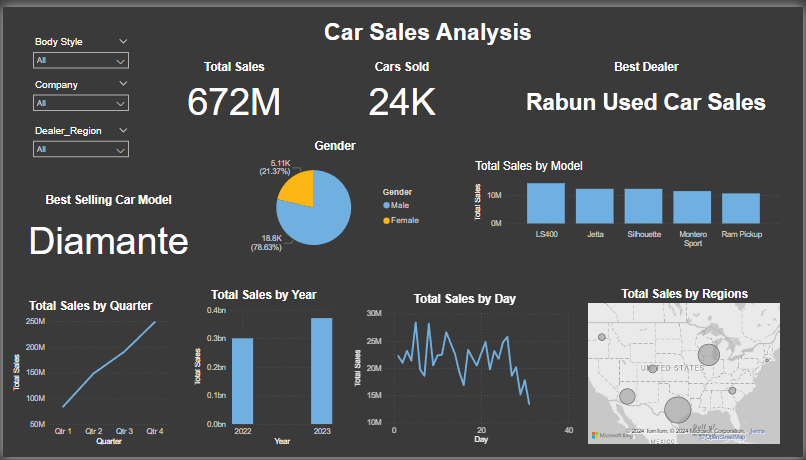

The dashboard page shown, as its layout file describes it:
{"tool":"powerbi","page":{"name":"Car Sales","canvas":[1280,720],"ordinal":0},"visuals":[{"type":"textbox","box":[496.7,13.7,367.8,57.6],"z":0},{"type":"card","title":"Total Sales","fields":{"Values":["Car Sales.Total Sales"]},"box":[268,86,204,100],"z":1000},{"type":"card","title":"Cars Sold","fields":{"Values":["Car Sales.Cars Sold"]},"box":[558.5,85.1,160.5,101.5],"z":2000},{"type":"card","title":"Best Selling Car Model","fields":{"Values":["Car Sales.Best Selling Model"]},"box":[26.1,297.8,285.4,122.1],"z":3000},{"type":"card","title":"Best Dealer","fields":{"Values":["Car Sales.Top Dealer"]},"box":[778,86,502,108],"z":4000},{"type":"lineChart","fields":{"Y":["Car Sales.Total Sales"],"Category":["Car Sales.Date.Variation.Date Hierarchy.Quarter"]},"box":[11.4,467.1,255.7,238.6],"z":5000},{"type":"columnChart","fields":{"Category":["Car Sales.Date.Variation.Date Hierarchy.Year","Car Sales.Date.Variation.Date Hierarchy.Quarter","Car Sales.Date.Variation.Date Hierarchy.Month","Car Sales.Date.Variation.Date Hierarchy.Day"],"Y":["Car Sales.Total Sales"]},"box":[302,450,230,256],"z":6000},{"type":"slicer","fields":{"Values":["Car Sales.Body Style"]},"box":[37,42.5,172.9,71.4],"z":7000},{"type":"slicer","fields":{"Values":["Car Sales.Dealer_Region"]},"box":[37.6,183.3,172.9,63.1],"z":8000},{"type":"slicer","fields":{"Values":["Car Sales.Company"]},"box":[37.6,110.6,172.9,72.7],"z":9000},{"type":"pieChart","title":"Gender","fields":{"Category":["Car Sales.Gender"],"Y":["CountNonNull(Car Sales.Customer Name)"]},"box":[382.8,212.7,297.8,197.6],"z":10000},{"type":"map","title":"Total Sales by Regions","fields":{"Category":["Car Sales.Dealer_Region"],"Size":["Car Sales.Total Sales"]},"box":[931.7,448.7,317,256.6],"z":11000},{"type":"lineChart","fields":{"Category":["Car Sales.Date.Variation.Date Hierarchy.Day"],"Y":["Car Sales.Total Sales"]},"box":[558,456,362,248],"z":12000},{"type":"columnChart","fields":{"Category":["Car Sales.Model"],"Y":["Car Sales.Total Sales"]},"box":[750.6,244.3,499.5,149.6],"z":13000}]}

Visuals, with their boxes in screenshot pixels (x1, y1, x2, y2), scaled from the page's 1280x720 canvas onto the 806x460 screenshot:
textbox: {"left": 313, "top": 9, "right": 544, "bottom": 46}
"Total Sales" card: {"left": 169, "top": 55, "right": 297, "bottom": 119}
"Cars Sold" card: {"left": 352, "top": 54, "right": 453, "bottom": 119}
"Best Selling Car Model" card: {"left": 16, "top": 190, "right": 196, "bottom": 268}
"Best Dealer" card: {"left": 490, "top": 55, "right": 805, "bottom": 124}
lineChart - Car Sales.Total Sales x Car Sales.Date.Variation.Date Hierarchy.Quarter: {"left": 7, "top": 298, "right": 168, "bottom": 451}
columnChart - Car Sales.Date.Variation.Date Hierarchy.Year x Car Sales.Date.Variation.Date Hierarchy.Quarter: {"left": 190, "top": 288, "right": 335, "bottom": 451}
slicer - Car Sales.Body Style: {"left": 23, "top": 27, "right": 132, "bottom": 73}
slicer - Car Sales.Dealer_Region: {"left": 24, "top": 117, "right": 133, "bottom": 157}
slicer - Car Sales.Company: {"left": 24, "top": 71, "right": 133, "bottom": 117}
"Gender" pieChart: {"left": 241, "top": 136, "right": 429, "bottom": 262}
"Total Sales by Regions" map: {"left": 587, "top": 287, "right": 786, "bottom": 451}
lineChart - Car Sales.Date.Variation.Date Hierarchy.Day x Car Sales.Total Sales: {"left": 351, "top": 291, "right": 579, "bottom": 450}
columnChart - Car Sales.Model x Car Sales.Total Sales: {"left": 473, "top": 156, "right": 787, "bottom": 252}
